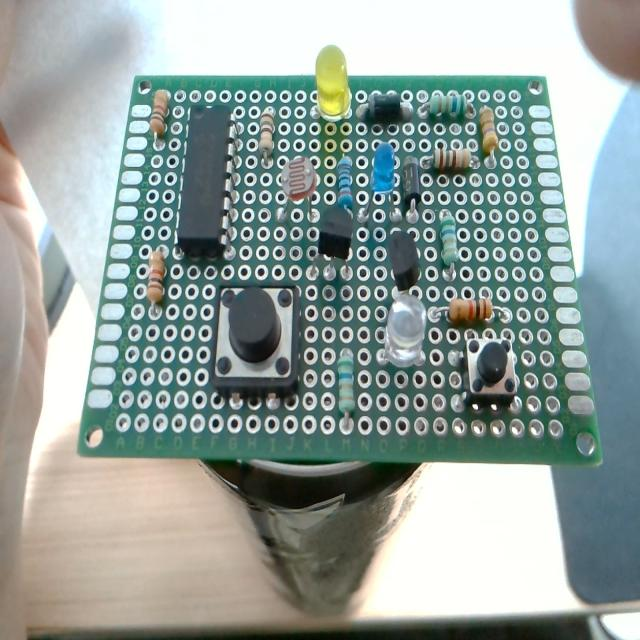IC: (177, 107, 232, 258)
cds: (276, 155, 317, 225)
diode: (358, 92, 413, 121), (402, 156, 420, 210)
led: (307, 42, 357, 121), (383, 294, 427, 366), (361, 142, 398, 224)
resistor: (337, 351, 357, 432), (438, 212, 460, 284), (480, 106, 499, 167), (451, 297, 493, 322), (429, 92, 468, 117), (147, 251, 165, 305), (433, 146, 470, 170), (258, 111, 274, 164), (151, 89, 169, 136), (338, 157, 353, 210)
switch: (210, 284, 301, 396), (464, 336, 518, 406)
transistor: (381, 230, 426, 300), (318, 209, 353, 282)
